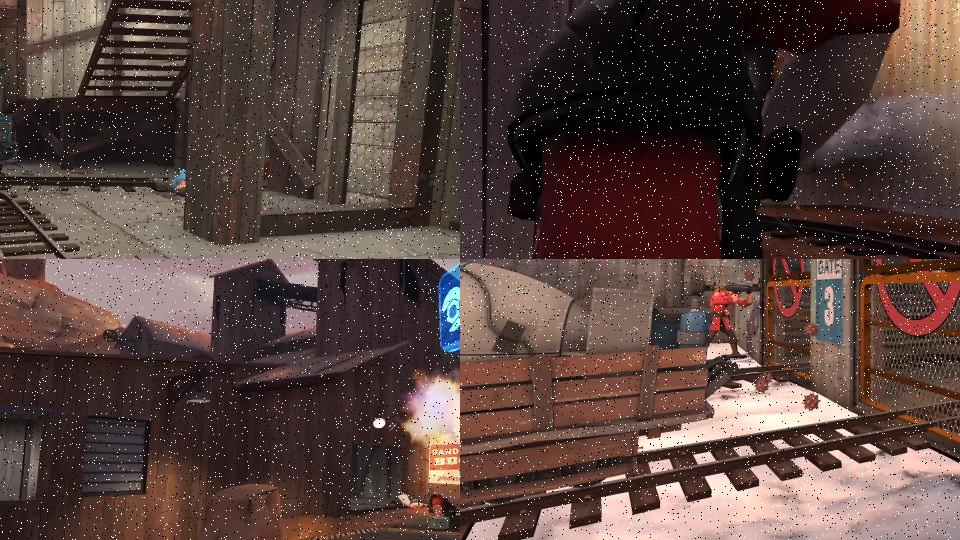Enemy: (490, 0, 902, 259), (703, 277, 762, 359), (150, 166, 188, 195), (426, 493, 460, 516), (387, 494, 428, 512)
